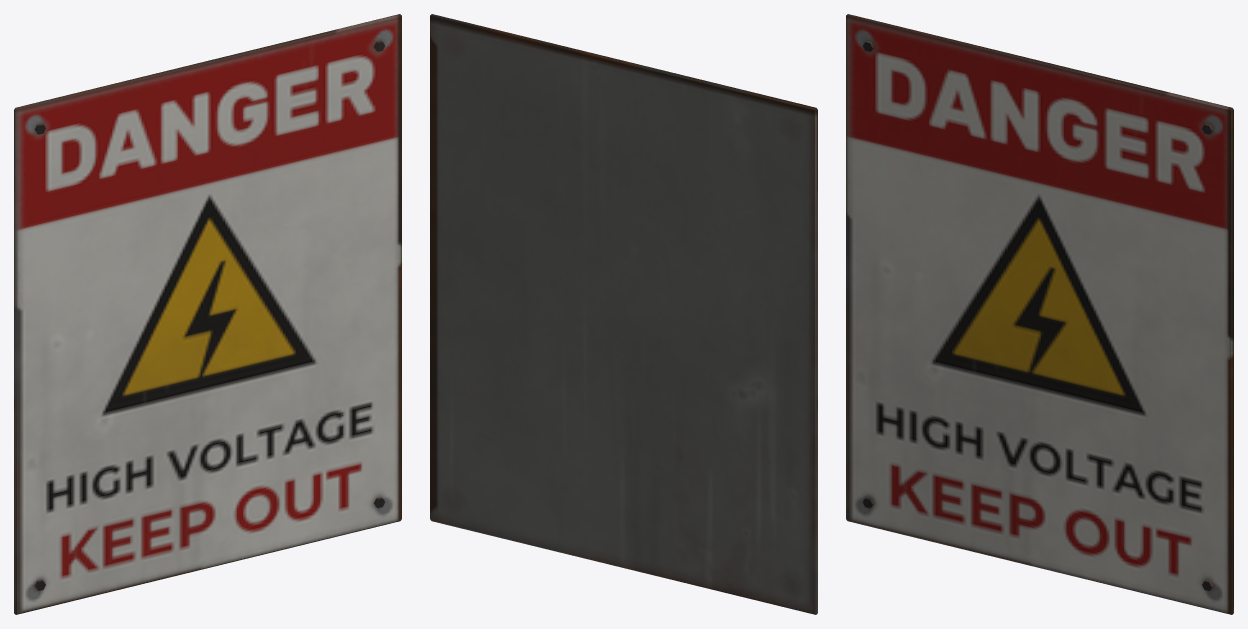
File: SignHighVoltage.glb
3 renders of one model, left to right at view 1: azimuth 30°, elevation 25°; view 2: azimuth 150°, elevation 25°; view 3: azimuth 330°, elevation 25°, orthographic.
Parts seen in each view (by area): view 1: Sign_Danger_HighVoltage; view 2: Sign_Danger_HighVoltage; view 3: Sign_Danger_HighVoltage.
Boxes of the visible parts, left/top/right/bottom form: Sign_Danger_HighVoltage: left=14, top=14, right=401, bottom=614; Sign_Danger_HighVoltage: left=430, top=14, right=817, bottom=614; Sign_Danger_HighVoltage: left=846, top=14, right=1233, bottom=614.
Size of the model in its own units: 2.72 by 3.4 by 0.0476.
1 material, 1 textured.
